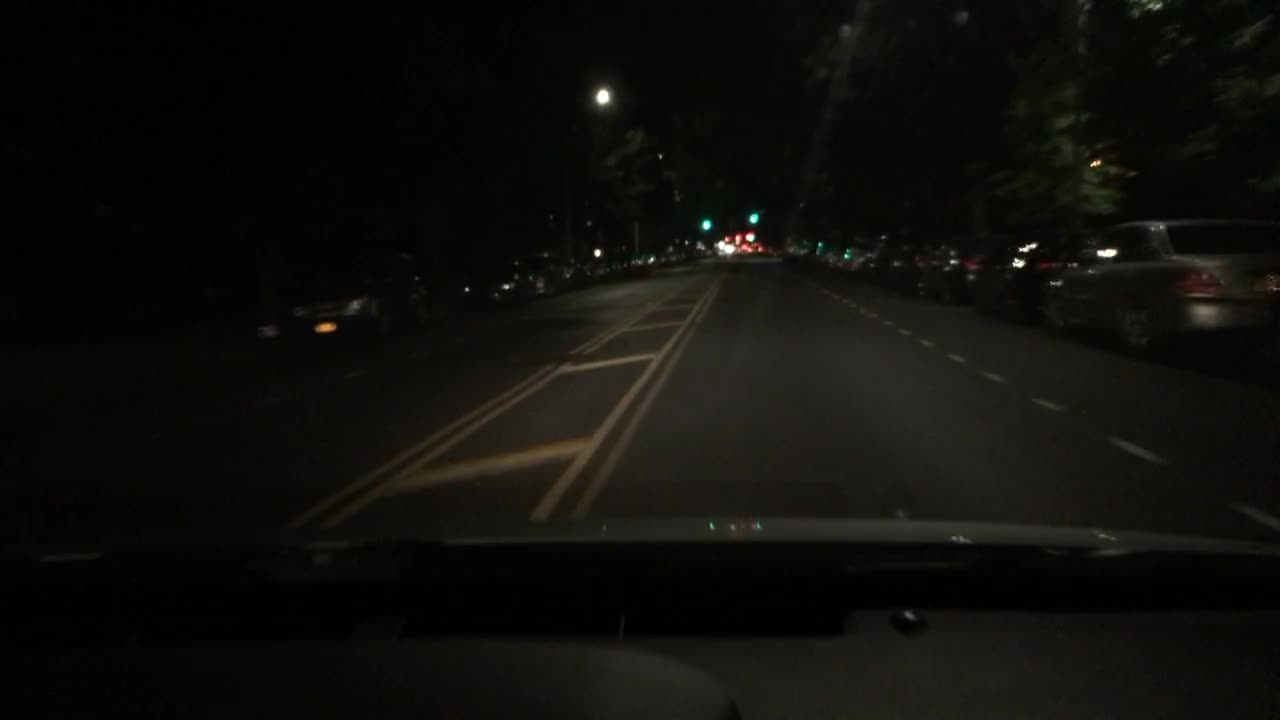car: (1036, 212, 1279, 361), (251, 246, 430, 354), (960, 221, 1102, 320), (909, 223, 1009, 310), (462, 251, 546, 307), (860, 226, 923, 292), (530, 245, 570, 293), (828, 234, 870, 273), (810, 236, 845, 272), (779, 231, 813, 266), (562, 251, 595, 283), (600, 253, 626, 280), (624, 248, 651, 272), (587, 255, 611, 280), (612, 250, 634, 275), (639, 248, 658, 268), (656, 246, 678, 263), (734, 239, 752, 258), (671, 245, 687, 260), (749, 239, 764, 255)
traffic light: (747, 201, 759, 226), (698, 211, 710, 233)
